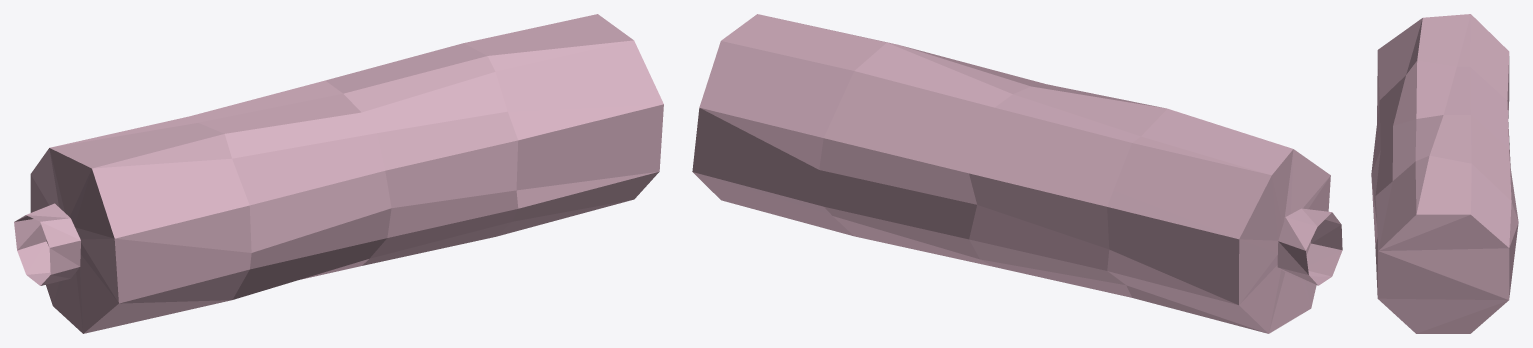
File: obstacle_roller.FBX
The picture shows the model from 3 angles, left to right: view 1: azimuth 30°, elevation 25°; view 2: azimuth 150°, elevation 25°; view 3: azimuth 270°, elevation 25°; orthographic projection. The views are drawn at different scales.
Parts seen in each view (by area): view 1: roller; view 2: roller; view 3: roller.
Part boxes in pixels (x1,y1,x2,y2): roller: (14, 14, 663, 333); roller: (692, 14, 1342, 333); roller: (1371, 14, 1518, 333).
Size of the model in its own units: 8.02 by 2.32 by 2.32.
